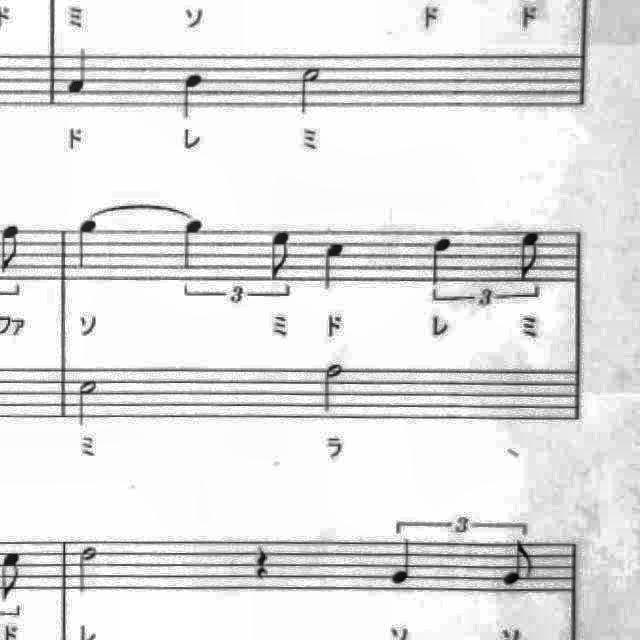Eighth-note: (494, 537, 538, 593), (262, 224, 300, 284), (511, 226, 549, 286), (0, 542, 28, 605), (0, 222, 28, 282)
Half-note: (318, 356, 352, 422), (294, 61, 330, 122), (71, 374, 105, 431), (72, 540, 105, 598)
Quarter-note: (314, 237, 354, 299), (422, 230, 460, 294), (386, 534, 426, 590), (70, 216, 106, 276), (61, 43, 97, 101), (177, 213, 211, 274), (175, 68, 209, 125)
Quarter-rest: (248, 536, 280, 584)
